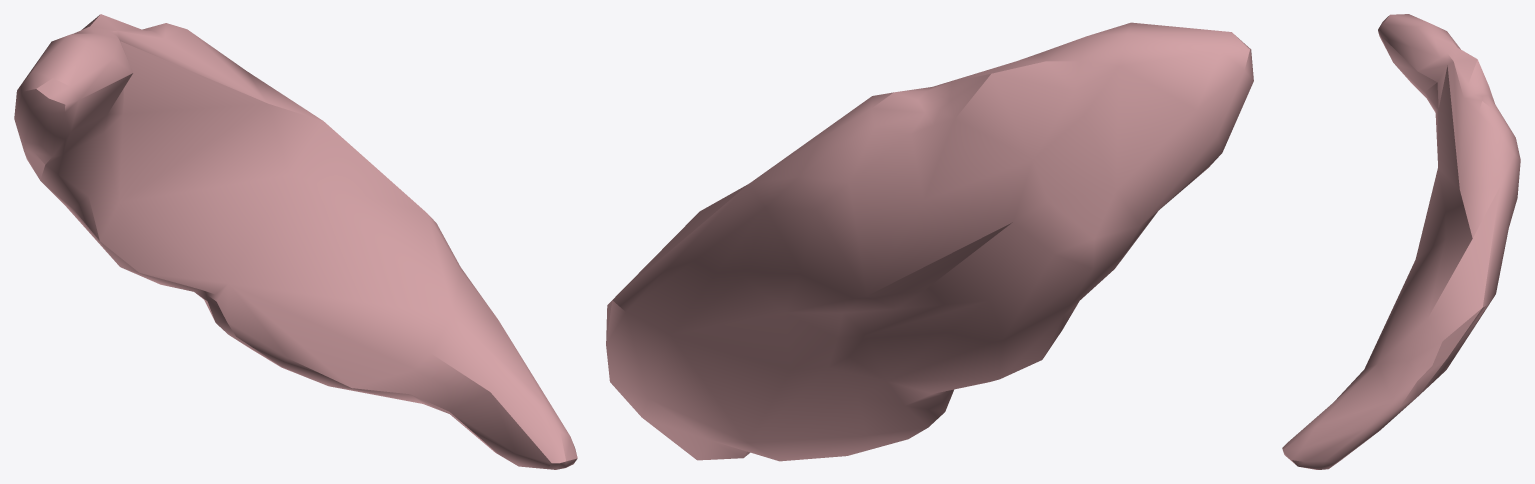
Rendered from fma19387_fj3143.glb.
3 views of the same model, side by side, from view 1: azimuth 30°, elevation 25°; view 2: azimuth 150°, elevation 25°; view 3: azimuth 270°, elevation 25° (orthographic). The views are drawn at different scales.
Visible parts, largest first — view 1: FMA19387_FJ3143; view 2: FMA19387_FJ3143; view 3: FMA19387_FJ3143.
Boxes of the visible parts, x1,y1,x2,y2 form: FMA19387_FJ3143: [14, 14, 577, 469]; FMA19387_FJ3143: [606, 22, 1253, 461]; FMA19387_FJ3143: [1282, 14, 1520, 469].
Size of the model in its own units: 0.0317 by 0.0294 by 0.0202.
